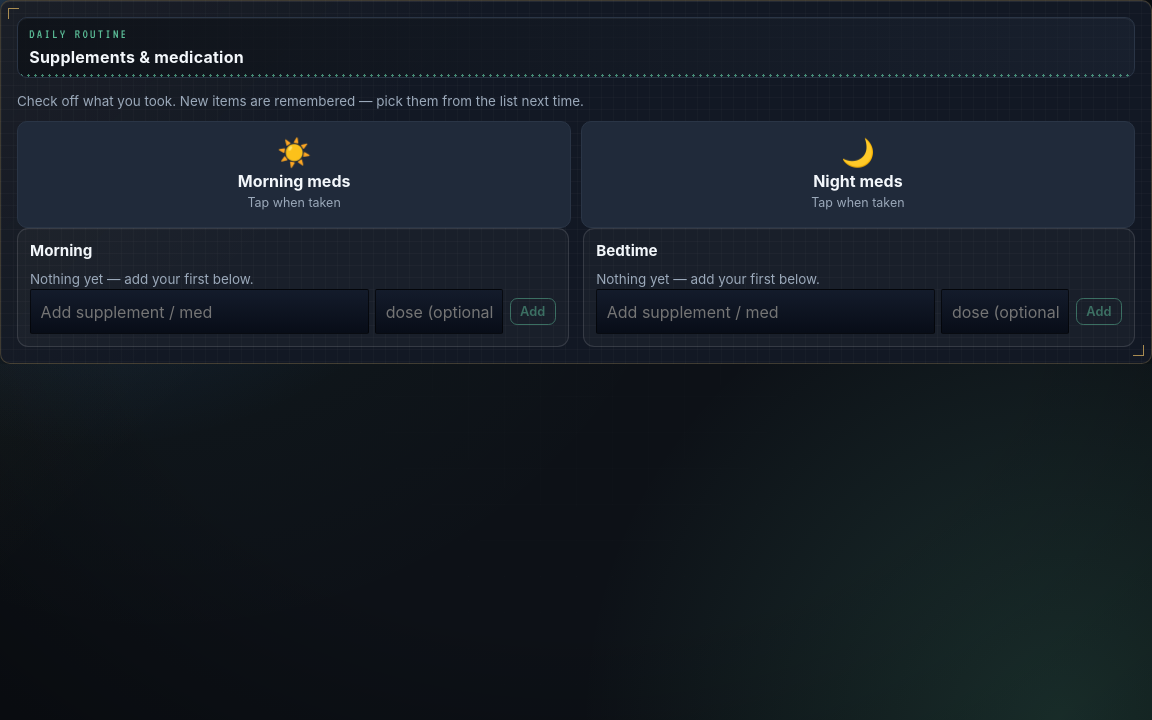
Scenario: SupplementLog › quick-tap meds row (absorbed from MedicationQuickLog) › writes the same entry shape the detailed checklist reads
Click the button "☀️ Morning meds Tap when taken" at (294, 175), box x1=17 y1=121 x2=571 y2=228
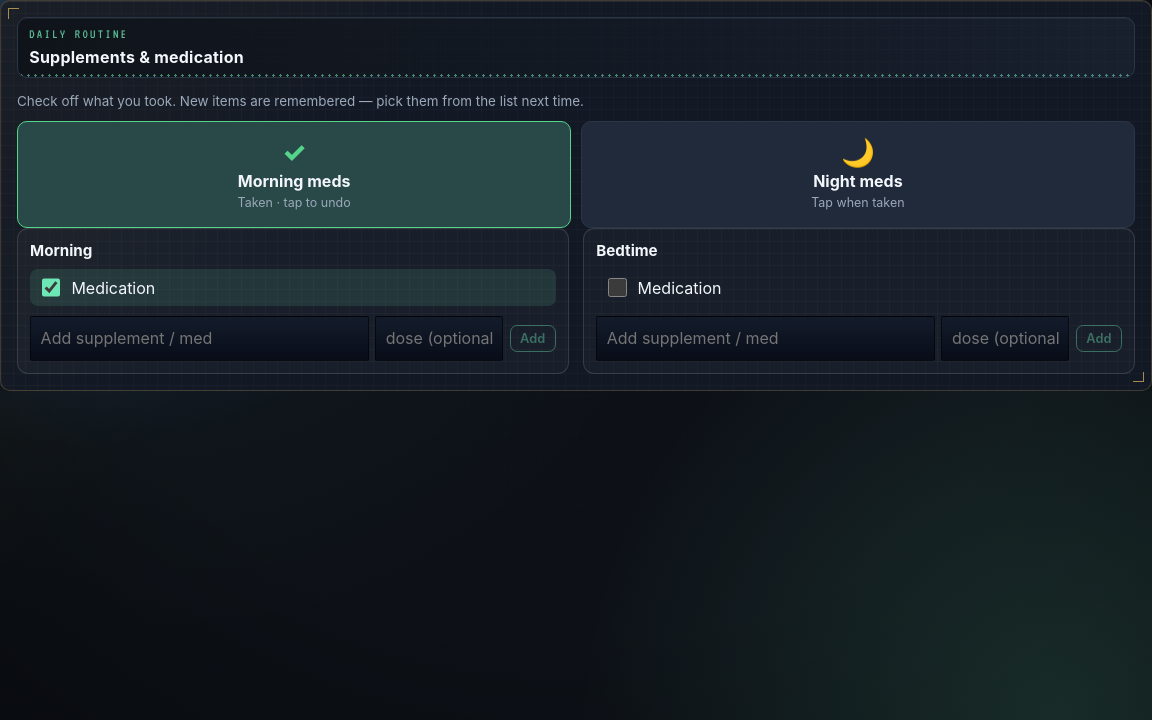
Now the checkbox named "Medication Morning" is checked, box x1=42 y1=278 x2=60 y2=297
